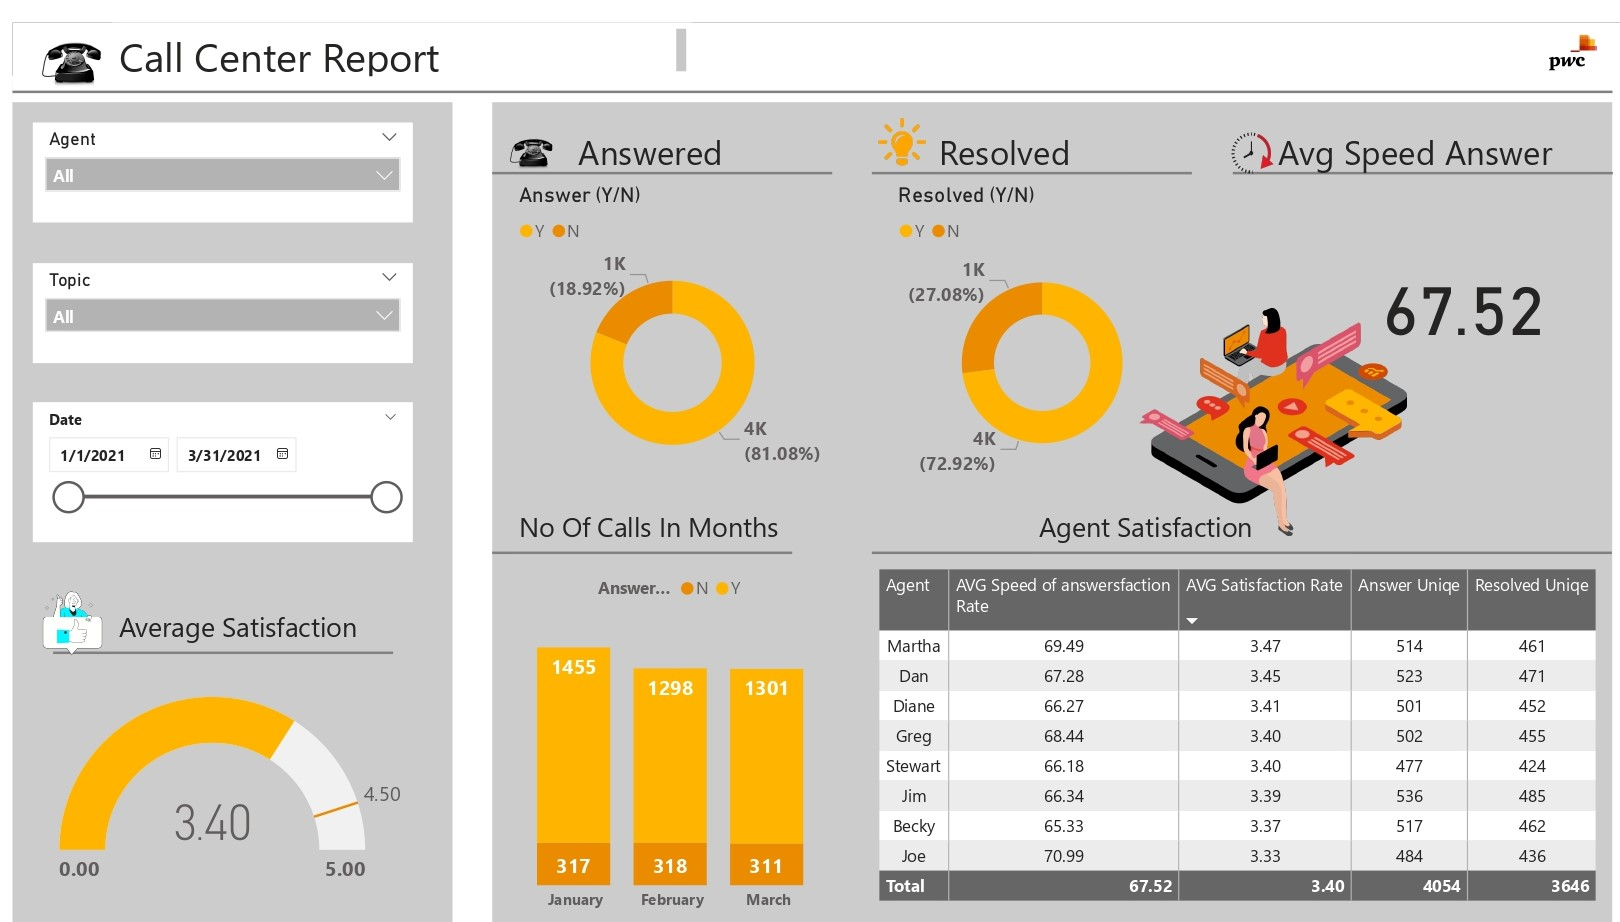

Layout of this report page (visuals, bound fields, positions):
{"tool":"powerbi","page":{"name":"Page 1","canvas":[1280,720],"ordinal":0},"visuals":[{"type":"shape","box":[0,64,352,656],"z":0},{"type":"shape","box":[384,64,896,656],"z":1000},{"type":"shape","box":[0,48,1280,16],"z":2000},{"type":"textbox","box":[80,0,464,48],"z":3000},{"type":"donutChart","title":"Answer (Y/N)","fields":{"Y":["Measure.Answer Uniqe","Measure.Not Answer"]},"box":[400,128,256,240],"z":4000},{"type":"donutChart","title":"Resolved (Y/N)","fields":{"Y":["Measure.Resolved Uniqe","Measure.Not Resolved"]},"box":[704,128,240,240],"z":5000},{"type":"columnChart","fields":{"Category":["Call Center.Date.Variation.Date Hierarchy.Month"],"Series":["Call Center.Answered (Y/N)"],"Y":["Measure.Total Calls"]},"box":[384,432,288,288],"z":6000},{"type":"tableEx","fields":{"Values":["Call Center.Agent","Measure.AVG Speed of answersfaction Rate","Measure.AVG Satisfaction Rate","Measure.Answer Uniqe","Measure.Resolved Uniqe"]},"box":[688,432,592,288],"z":7000},{"type":"card","fields":{"Values":["Measure.AVG Speed of answersfaction Rate"]},"box":[1072,160,176,128],"z":8000},{"type":"textbox","box":[448,80,144,48],"z":9000},{"type":"shape","box":[384,112,272,16],"z":10000},{"type":"shape","box":[976,112,304,16],"z":11000},{"type":"shape","box":[688,112,256,16],"z":12000},{"type":"textbox","box":[1008,80,256,48],"z":13000},{"type":"textbox","box":[736,80,160,48],"z":14000},{"type":"shape","box":[384,416,240,16],"z":15000},{"type":"shape","box":[688,416,592,16],"z":16000},{"type":"textbox","box":[400,384,256,48],"z":17000},{"type":"textbox","box":[816,384,256,48],"z":18000},{"type":"slicer","fields":{"Values":["Call Center.Agent"]},"box":[16,80,304,80],"z":19000},{"type":"slicer","fields":{"Values":["Call Center.Topic"]},"box":[16,192,304,80],"z":20000},{"type":"slicer","fields":{"Values":["Call Center.Date"]},"box":[16,304,304,112],"z":21000},{"type":"shape","box":[32,496,272,16],"z":22000},{"type":"textbox","box":[80,464,256,48],"z":23000},{"type":"gauge","fields":{"Y":["Measure.AVG Satisfaction Rate"]},"box":[32,512,288,208],"z":24000},{"type":"image","box":[1216,0,64,48],"z":25000},{"type":"image","box":[688,64,48,64],"z":26000},{"type":"image","box":[960,80,64,48],"z":27000},{"type":"image","box":[896,208,224,224],"z":28000},{"type":"image","box":[0,416,96,128],"z":29000},{"type":"image","box":[384,80,64,48],"z":30000},{"type":"image","box":[0,0,96,64],"z":30001}]}

Visuals, with their boxes in screenshot pixels (x1, y1, x2, y2), scaled from the page's 1280x720 canvas onto the 1620x922 screenshot:
shape: x1=0, y1=82, x2=446, y2=921
shape: x1=486, y1=82, x2=1619, y2=921
shape: x1=0, y1=61, x2=1619, y2=82
textbox: x1=101, y1=0, x2=688, y2=61
"Answer (Y/N)" donutChart: x1=506, y1=164, x2=830, y2=471
"Resolved (Y/N)" donutChart: x1=891, y1=164, x2=1195, y2=471
columnChart - Call Center.Date.Variation.Date Hierarchy.Month x Call Center.Answered (Y/N): x1=486, y1=553, x2=850, y2=921
tableEx - Call Center.Agent x Measure.AVG Speed of answersfaction Rate: x1=871, y1=553, x2=1619, y2=921
card - Measure.AVG Speed of answersfaction Rate: x1=1357, y1=205, x2=1580, y2=369
textbox: x1=567, y1=102, x2=749, y2=164
shape: x1=486, y1=143, x2=830, y2=164
shape: x1=1235, y1=143, x2=1619, y2=164
shape: x1=871, y1=143, x2=1195, y2=164
textbox: x1=1276, y1=102, x2=1600, y2=164
textbox: x1=932, y1=102, x2=1134, y2=164
shape: x1=486, y1=533, x2=790, y2=553
shape: x1=871, y1=533, x2=1619, y2=553
textbox: x1=506, y1=492, x2=830, y2=553
textbox: x1=1033, y1=492, x2=1357, y2=553
slicer - Call Center.Agent: x1=20, y1=102, x2=405, y2=205
slicer - Call Center.Topic: x1=20, y1=246, x2=405, y2=348
slicer - Call Center.Date: x1=20, y1=389, x2=405, y2=533
shape: x1=40, y1=635, x2=385, y2=656
textbox: x1=101, y1=594, x2=425, y2=656
gauge - Measure.AVG Satisfaction Rate: x1=40, y1=656, x2=405, y2=921
image: x1=1539, y1=0, x2=1619, y2=61
image: x1=871, y1=82, x2=932, y2=164
image: x1=1215, y1=102, x2=1296, y2=164
image: x1=1134, y1=266, x2=1418, y2=553
image: x1=0, y1=533, x2=122, y2=697
image: x1=486, y1=102, x2=567, y2=164
image: x1=0, y1=0, x2=122, y2=82
